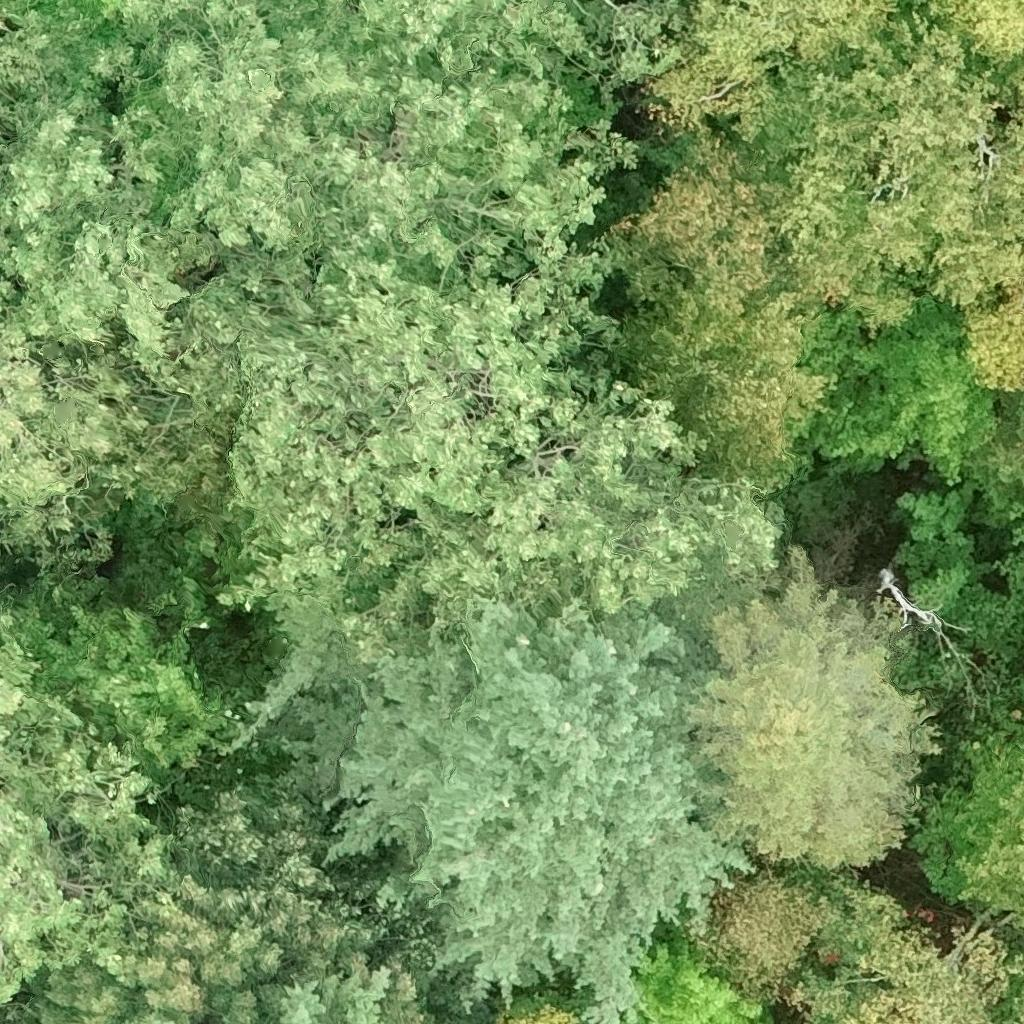crown: (194, 253, 796, 664), (226, 595, 750, 1023), (97, 0, 687, 301), (0, 4, 240, 572), (19, 792, 433, 1023), (677, 540, 944, 871), (0, 608, 173, 1023), (789, 18, 997, 340), (620, 284, 834, 486), (659, 0, 896, 130), (854, 295, 1000, 478), (614, 145, 782, 293), (918, 719, 1023, 929), (706, 865, 841, 999), (842, 927, 1023, 1023), (791, 312, 900, 467), (934, 122, 1023, 310), (635, 944, 769, 1023), (605, 229, 709, 314), (0, 0, 137, 60), (961, 288, 1023, 391), (930, 0, 1023, 56), (283, 973, 381, 1023), (878, 566, 943, 635), (985, 393, 1023, 505), (985, 910, 1023, 967), (991, 974, 1023, 1023), (506, 1010, 580, 1023), (1011, 72, 1023, 129), (1010, 1003, 1023, 1023), (0, 3, 3, 38), (165, 1020, 180, 1023)
